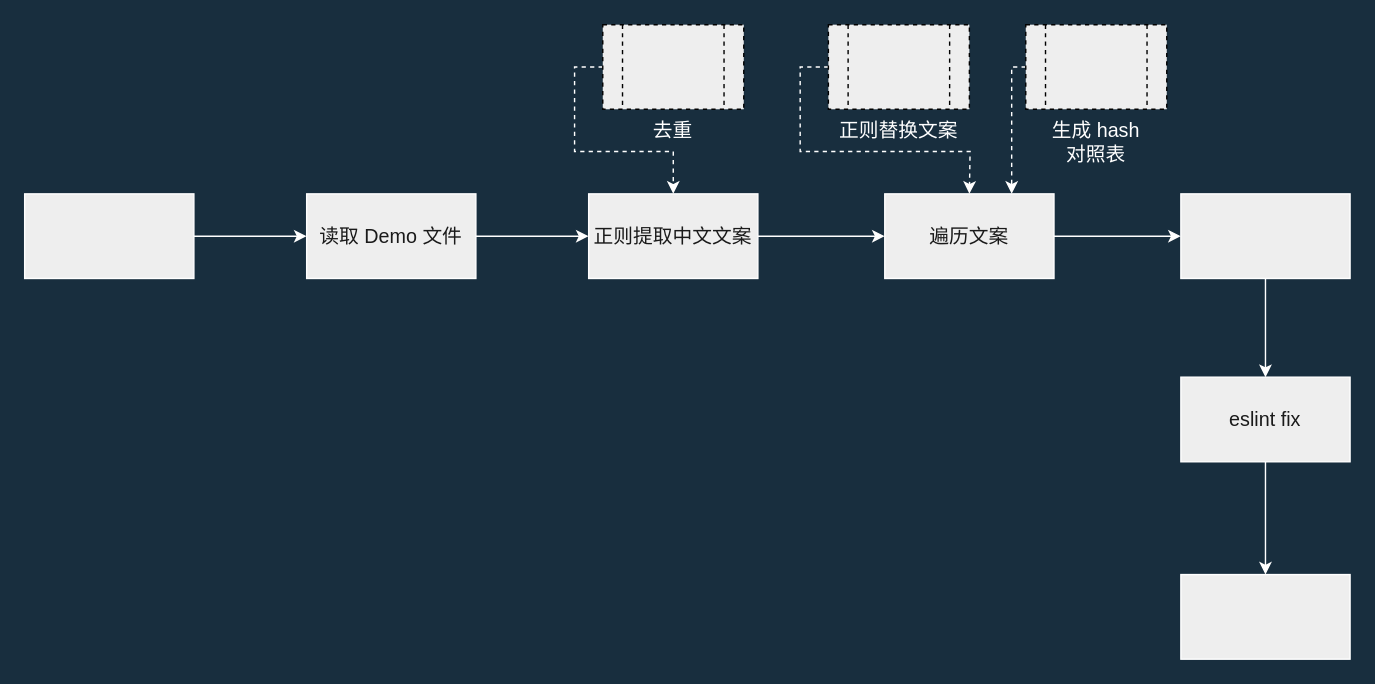
Image size: 1375x684. Some labels were removed from this diagram. The shapes that lost their labels are listed below. From the top down, each one's box as (x1, y1, x2, y2) in pixels, then its label:
(23, 192, 194, 278): Start
(1179, 192, 1350, 278): 拼装 Demo 文件
(1179, 573, 1350, 659): End
